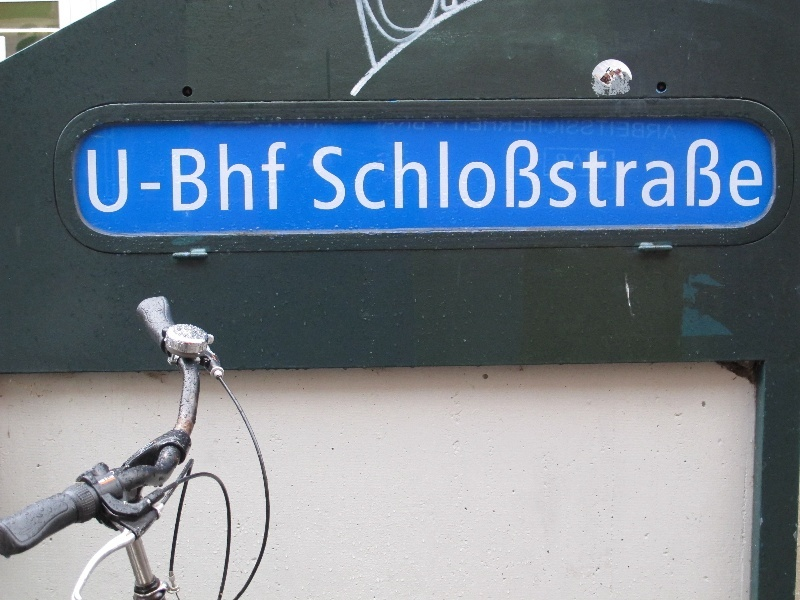text: (273, 140, 289, 215), (97, 140, 112, 215), (113, 140, 128, 215), (129, 140, 144, 215), (145, 140, 160, 215), (161, 140, 176, 215), (177, 140, 192, 215), (193, 140, 208, 215), (209, 140, 224, 215), (225, 140, 240, 215), (241, 140, 256, 215), (257, 140, 272, 215), (321, 137, 336, 212), (337, 137, 352, 212), (353, 137, 368, 212), (369, 137, 384, 212), (385, 137, 400, 212), (401, 137, 416, 212), (417, 137, 432, 212), (433, 137, 448, 212), (449, 137, 464, 212), (465, 137, 480, 212), (481, 137, 496, 212), (497, 137, 512, 212), (513, 137, 528, 212), (529, 137, 544, 212), (545, 137, 560, 212), (561, 137, 576, 212), (577, 137, 592, 212), (593, 137, 608, 212), (609, 137, 624, 212), (625, 137, 640, 212), (641, 137, 656, 212), (657, 137, 672, 212), (673, 137, 688, 212), (689, 137, 704, 212), (705, 137, 720, 212), (721, 137, 736, 212), (737, 137, 752, 212), (753, 137, 764, 212), (87, 140, 96, 215), (315, 137, 320, 212)
